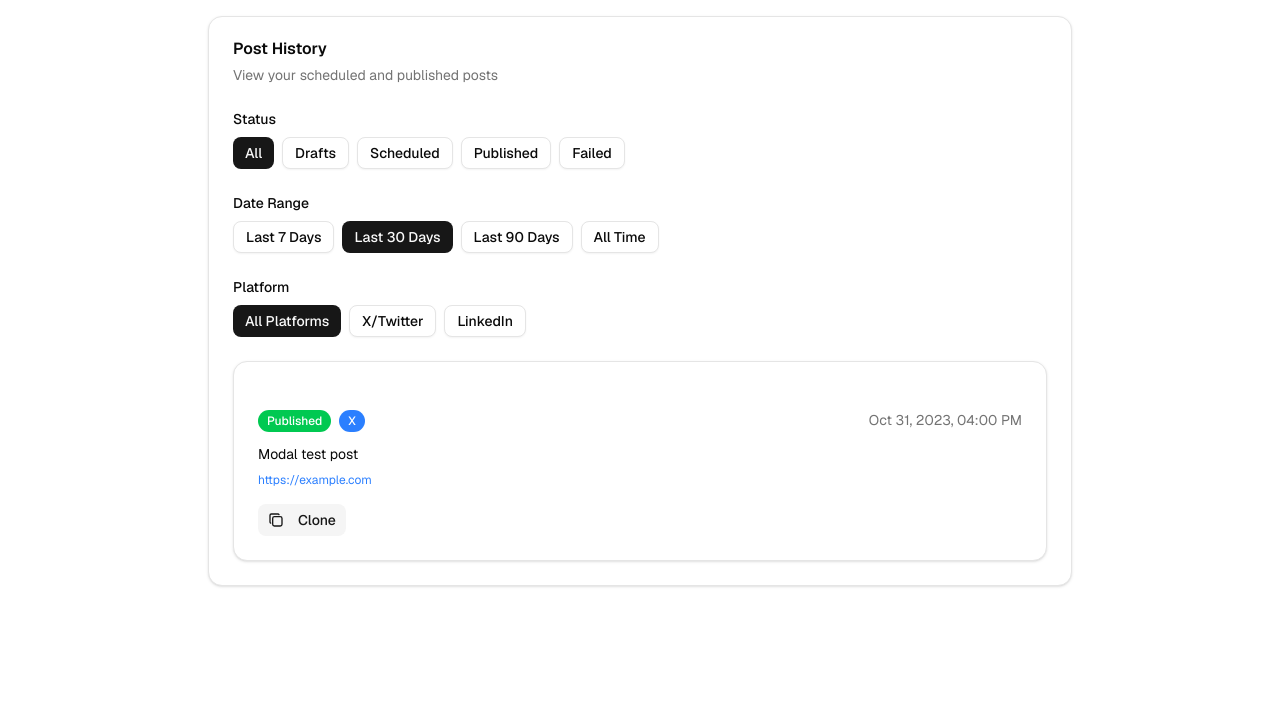
Test: PostHistory Component › Post Details Modal › should open modal when clicking post card
The width and height of the screenshot is (1280, 720).
Click the text "Modal test post" at x=308, y=454, box x1=258 y1=445 x2=358 y2=463
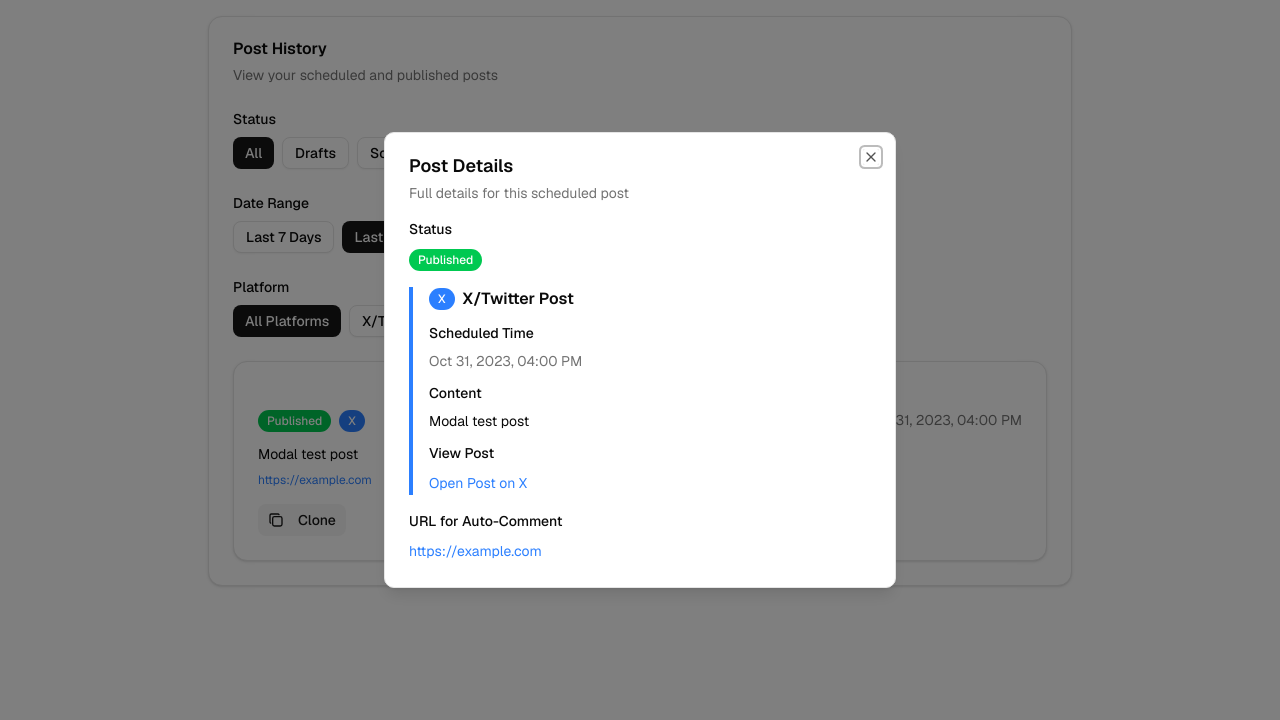
Expected: the heading "Post Details" is shown, x1=409 y1=154 x2=513 y2=177
Expected: the text "Full details for this scheduled post" is shown, x1=409 y1=184 x2=629 y2=202
